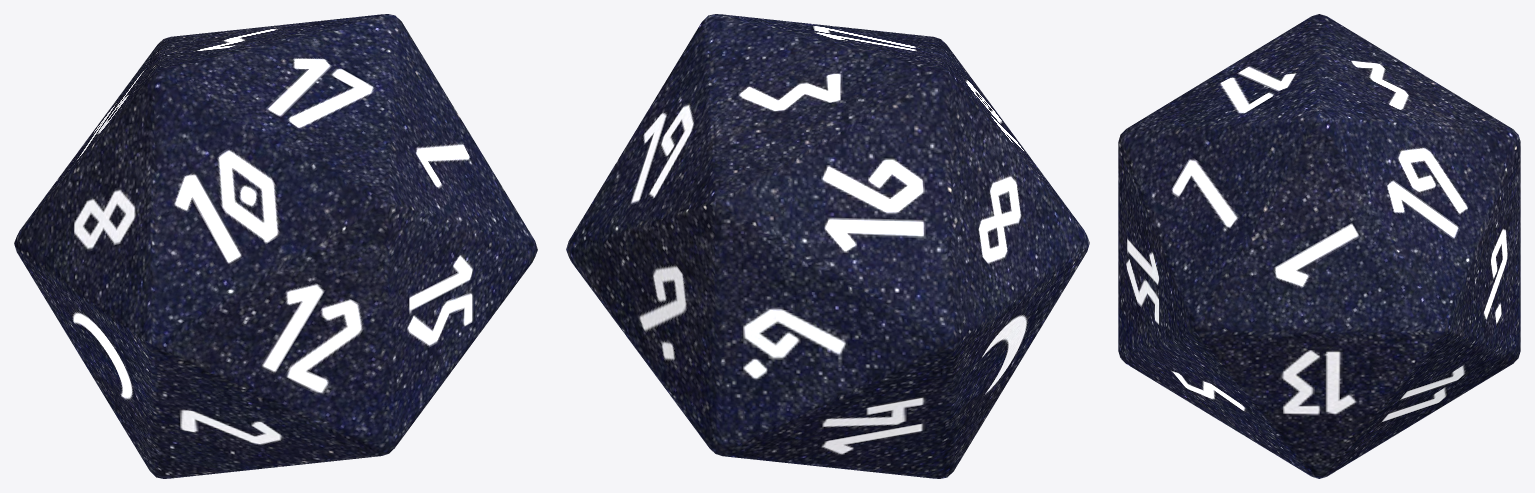
The model's file is dicemodel_d20.gltf.
3 views of the same model, side by side, from view 1: azimuth 30°, elevation 25°; view 2: azimuth 150°, elevation 25°; view 3: azimuth 270°, elevation 25° (orthographic). The views are drawn at different scales.
Visible parts, largest first — view 1: dicemodel_d20; view 2: dicemodel_d20; view 3: dicemodel_d20.
Part boxes in pixels (bbox=[...]): dicemodel_d20: bbox=[14, 14, 537, 478]; dicemodel_d20: bbox=[566, 14, 1089, 478]; dicemodel_d20: bbox=[1118, 14, 1520, 478].
Size of the model in its own units: 167 by 167 by 167.
Materials: 1 (1 with a texture image).
